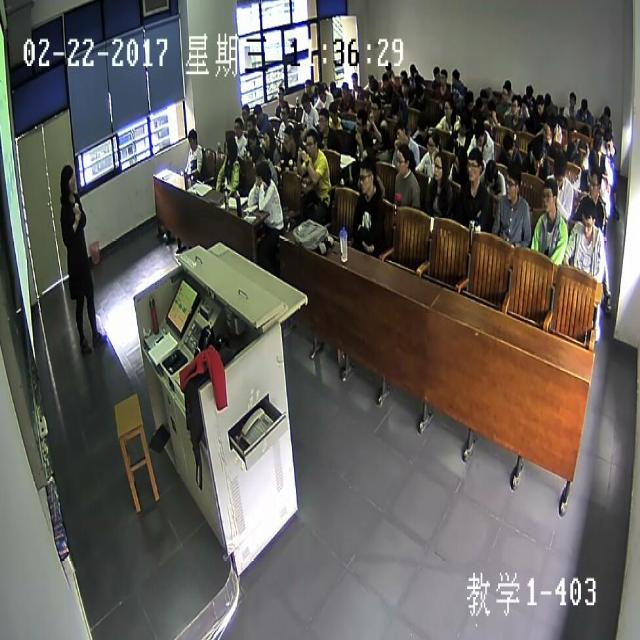person: (582, 198, 596, 237), (60, 161, 74, 198), (506, 162, 520, 197), (542, 178, 557, 210), (360, 158, 374, 191), (468, 147, 482, 179), (394, 145, 409, 173), (553, 153, 566, 184), (254, 162, 268, 190), (588, 169, 601, 197), (304, 128, 316, 158), (544, 105, 556, 134), (484, 158, 497, 184), (282, 125, 294, 151), (434, 153, 446, 179), (454, 147, 466, 172), (532, 140, 543, 166), (503, 132, 514, 156), (317, 110, 328, 132), (353, 112, 364, 134), (418, 112, 429, 134), (428, 131, 438, 155), (474, 120, 484, 144), (396, 123, 407, 144), (262, 124, 272, 147), (328, 98, 337, 123), (188, 128, 198, 150), (279, 100, 289, 122), (314, 82, 325, 101), (588, 151, 599, 170), (225, 136, 235, 156), (252, 103, 262, 123), (362, 147, 372, 167), (444, 97, 454, 117), (247, 126, 256, 148), (300, 91, 310, 110), (369, 99, 379, 118), (233, 116, 242, 137), (459, 111, 468, 132), (438, 67, 447, 87), (390, 97, 400, 115), (566, 143, 576, 161), (487, 100, 495, 122), (340, 81, 349, 100), (412, 70, 421, 89), (463, 90, 472, 109), (591, 130, 600, 149), (368, 76, 378, 92), (450, 68, 460, 84), (577, 138, 587, 154), (432, 64, 441, 81), (241, 102, 249, 121), (246, 113, 254, 132), (511, 96, 519, 115), (399, 78, 408, 94), (276, 85, 284, 102), (474, 95, 483, 110), (350, 72, 358, 88), (602, 128, 610, 144), (526, 83, 533, 101), (536, 94, 543, 112), (328, 80, 336, 95), (399, 68, 406, 85), (504, 78, 512, 92), (602, 105, 610, 118), (304, 78, 310, 95), (384, 60, 391, 74), (581, 98, 588, 112), (502, 85, 508, 101), (409, 62, 415, 76), (516, 95, 522, 109), (569, 92, 575, 106), (382, 72, 388, 85), (480, 86, 487, 97), (544, 93, 550, 103)
